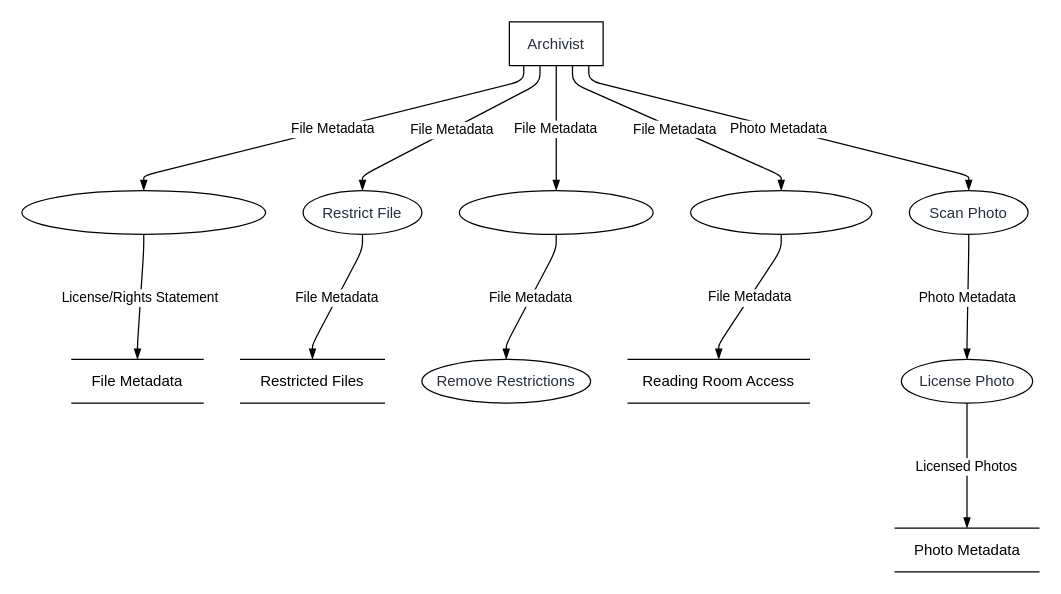
The diagram is 1061 pixels wide and 594 high, and some of its shapes have lost their labels. The shapes that lost their labels are listed below. From the top down, each one's centre as x and y in pixels, then its label:
At [143,211]: "Apply License/Rights Statement".
At [555,211]: "Set Restriction End Date".
At [780,211]: "IP Address Restriction".
